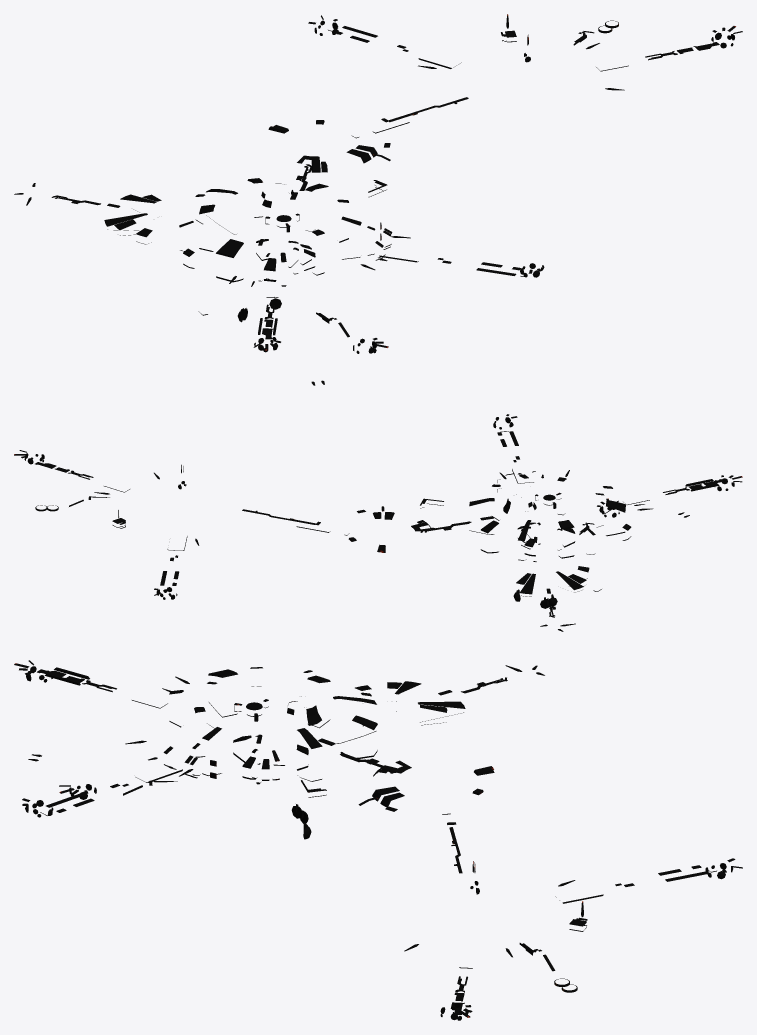
File: ama_outpost_01.glb
3 renders of one model, top to bottom at view 1: azimuth 30°, elevation 25°; view 2: azimuth 150°, elevation 25°; view 3: azimuth 270°, elevation 25°, orthographic. The views are drawn at different scales.
Visible parts, largest first — view 1: ama_outpost_01_LOD0; view 2: ama_outpost_01_LOD0; view 3: ama_outpost_01_LOD0.
Part boxes in pixels (x1,y1,x2,y2): ama_outpost_01_LOD0: (14, 14, 742, 385); ama_outpost_01_LOD0: (14, 414, 742, 631); ama_outpost_01_LOD0: (14, 660, 742, 1020).
Size of what is drawn, in the model's own units: 85.81 by 16.77 by 70.05.
1 material, 1 textured.
